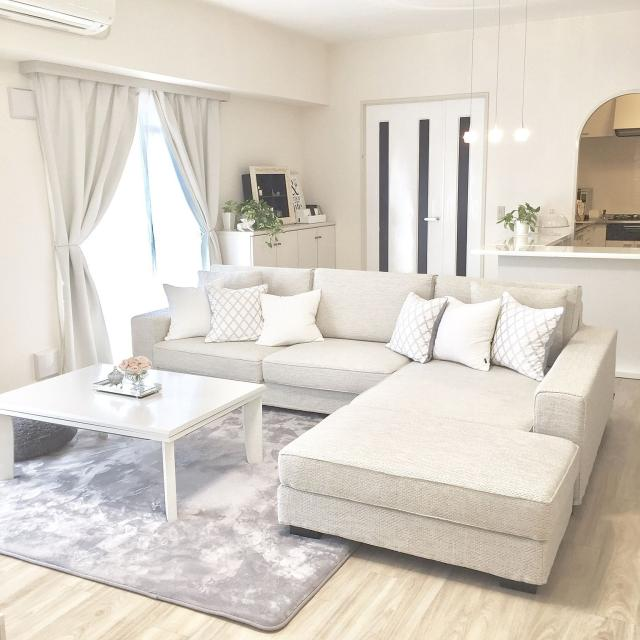white desk: (5, 353, 267, 522)
white sofa: (240, 273, 616, 596), (147, 265, 500, 427)
